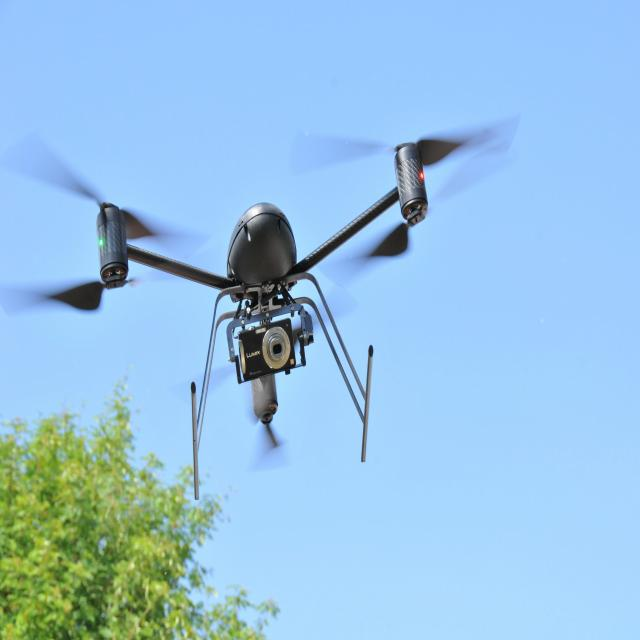UAV: (94, 132, 436, 457)
